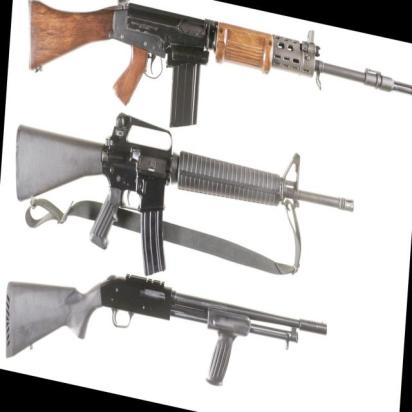Gun: (2, 90, 369, 308), (22, 0, 409, 172), (2, 250, 333, 412)
